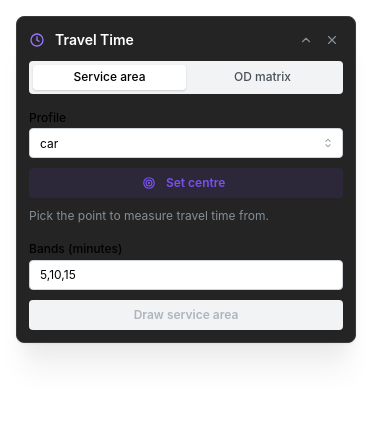
it: TravelTimePanel service areas › keeps the bands that worked and names how many did not
The image size is (372, 432).
Click the button "Set centre" at x=186, y=183, box [29, 168, 343, 198]
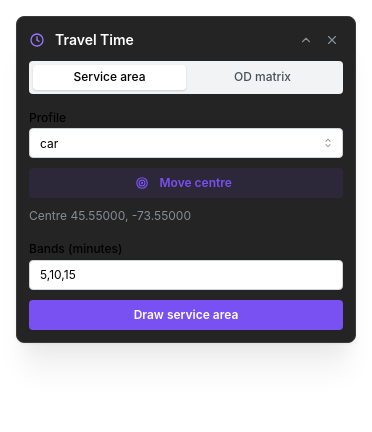
Replace the text in the field with test id "travel-time-bands" with "5, 10" at x=186, y=275, box [29, 260, 343, 290]
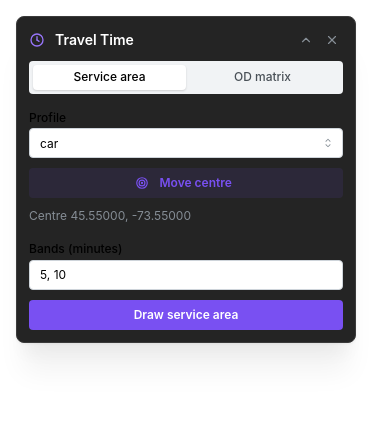
Click the button "Draw service area" at x=186, y=315, box [29, 300, 343, 330]
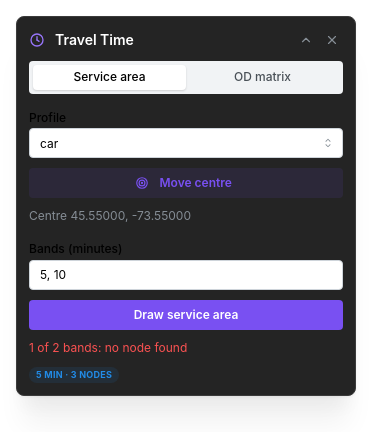
Result: the text with test id "travel-time-area-error" shows "1 of 2 bands" at [29, 340, 187, 355]
